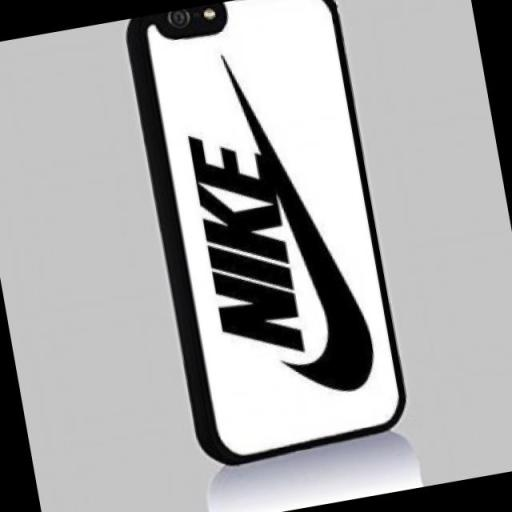Nike: (219, 36, 385, 411), (183, 119, 312, 370)
